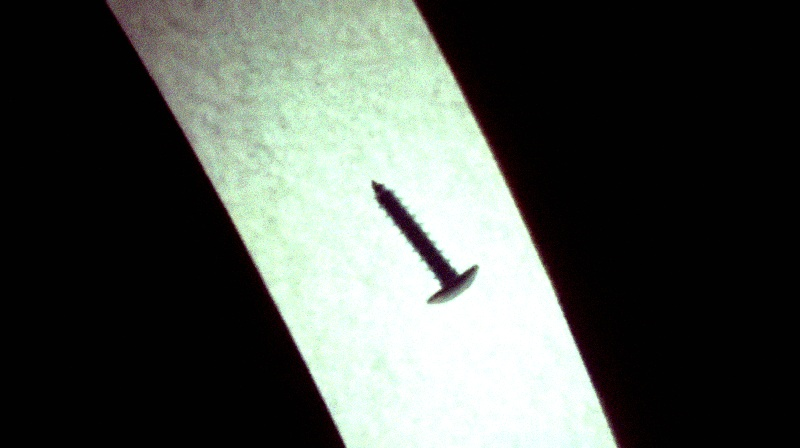S003: (364, 174, 484, 309)
